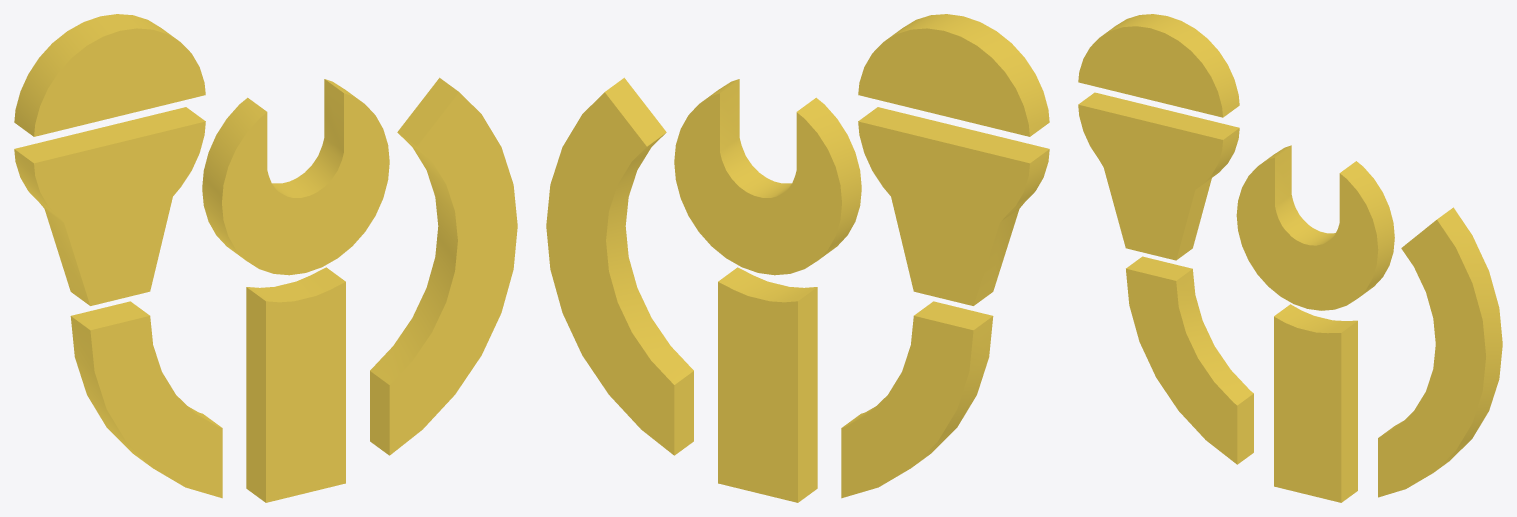
File: ps2_save-icons_singstarlegends-settings.glb
3 renders of one model, left to right at view 1: azimuth 30°, elevation 25°; view 2: azimuth 150°, elevation 25°; view 3: azimuth 330°, elevation 25°, orthographic. The views are drawn at different scales.
Visible parts, largest first — view 1: options.ico; view 2: options.ico; view 3: options.ico.
Boxes of the visible parts, box(x1,y1,x2,y2) form: options.ico: box(14, 14, 517, 502); options.ico: box(546, 14, 1049, 502); options.ico: box(1078, 14, 1502, 502).
Bounding box in the file's own units: 4.68 × 4.69 × 0.3303.
Materials: 1 (1 with a texture image).
